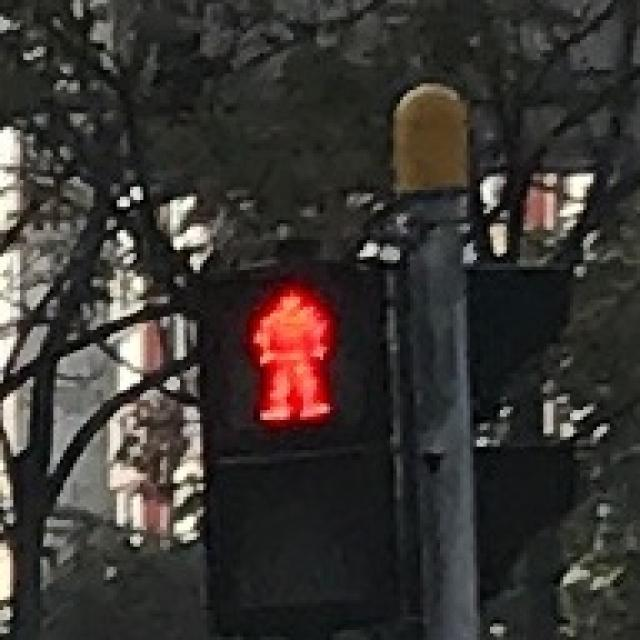red-crossing: (213, 266, 357, 434)
